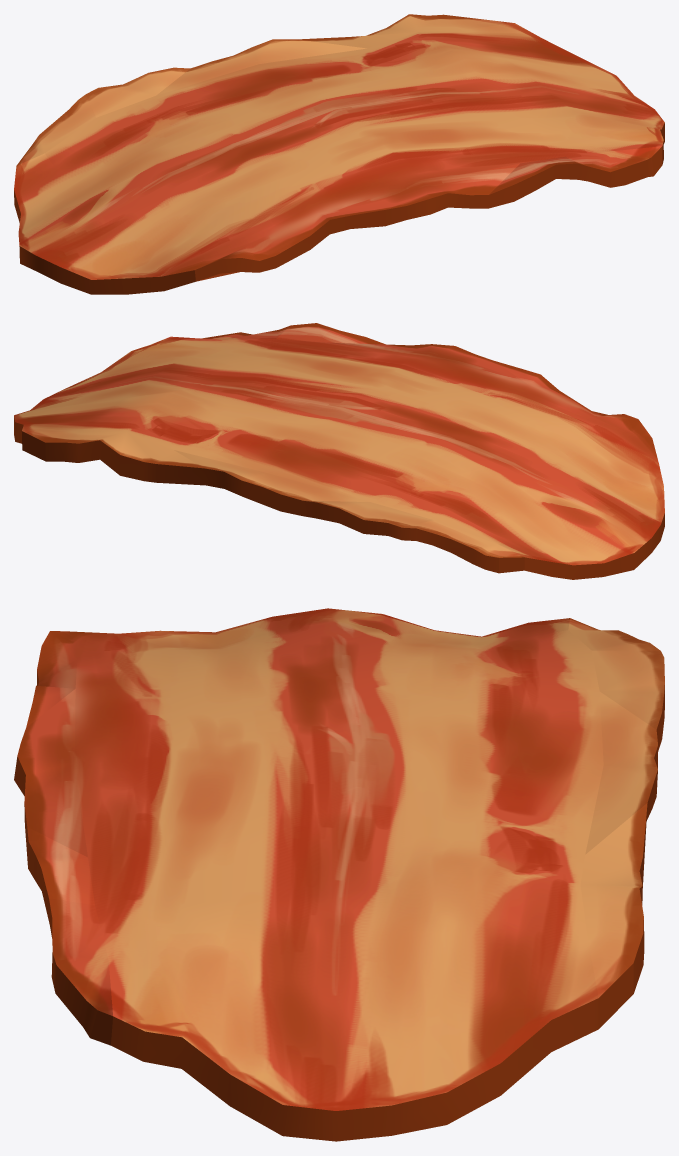
File: MD_Bacon.fbx
3 renders of one model, top to bottom at view 1: azimuth 30°, elevation 25°; view 2: azimuth 150°, elevation 25°; view 3: azimuth 270°, elevation 25°, orthographic. The views are drawn at different scales.
Visible parts, largest first — view 1: Bacon; view 2: Bacon; view 3: Bacon.
Boxes of the visible parts, left/top/right/bottom form: Bacon: left=14, top=14, right=664, bottom=294; Bacon: left=14, top=323, right=664, bottom=579; Bacon: left=14, top=608, right=664, bottom=1141.
Size of the model in its own units: 2.91 by 0.4101 by 1.63.
